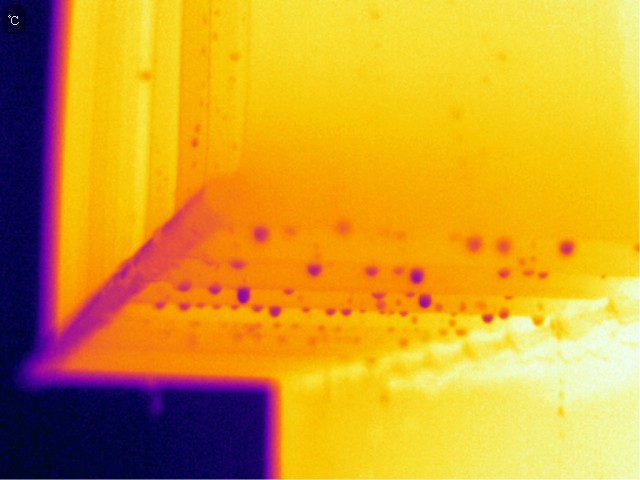Water: (372, 289, 410, 320), (412, 288, 446, 314), (300, 305, 370, 317), (244, 219, 275, 245), (405, 262, 432, 288), (519, 250, 536, 284), (555, 236, 581, 257), (168, 273, 197, 291), (302, 260, 329, 279), (332, 215, 353, 239), (172, 294, 192, 317), (205, 275, 229, 294), (488, 264, 512, 283), (481, 308, 513, 322), (360, 262, 382, 282), (235, 285, 253, 308), (493, 235, 510, 258), (192, 300, 223, 312), (465, 235, 484, 254), (535, 265, 551, 285), (266, 302, 285, 318), (227, 257, 250, 270), (153, 298, 169, 313), (279, 287, 301, 296), (531, 316, 546, 326)
